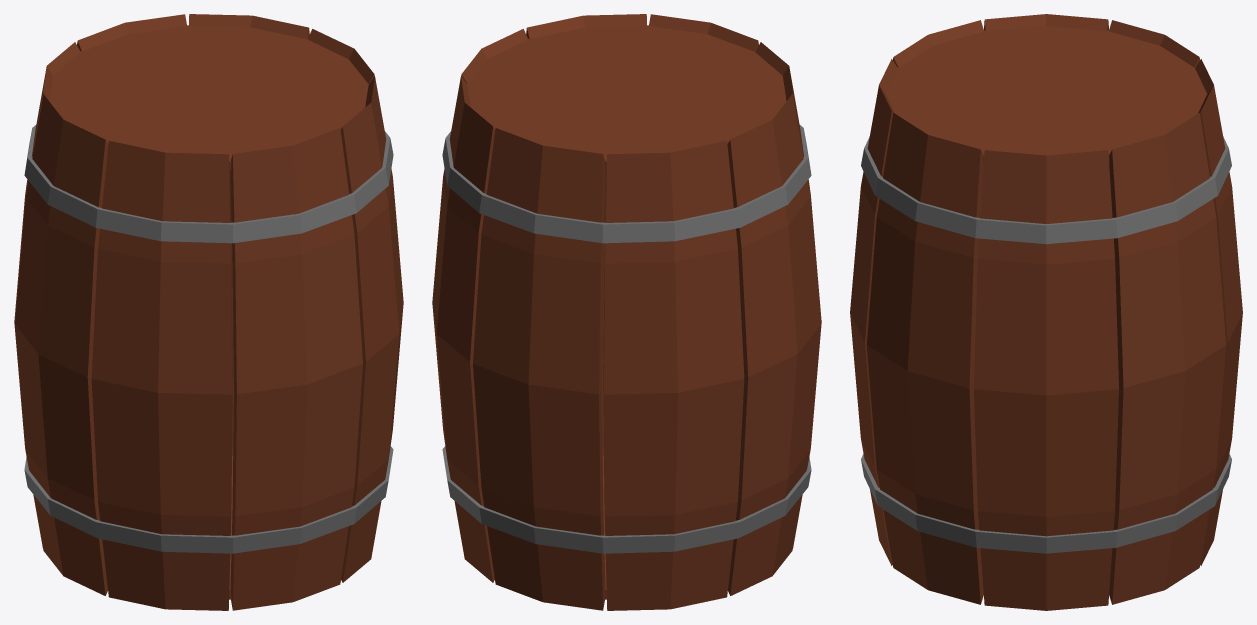
File: barrle.fbx
3 renders of one model, left to right at view 1: azimuth 30°, elevation 25°; view 2: azimuth 150°, elevation 25°; view 3: azimuth 270°, elevation 25°, orthographic.
Parts seen in each view (by area): view 1: Cylinder.009, Cylinder.002, Cylinder.001, Cylinder.005, Cylinder.006, Circle, Circle.001, Cylinder.007, Cylinder.004, Cylinder.008, Cylinder.003; view 2: Cylinder.008, Cylinder.004, Cylinder.001, Cylinder.005, Cylinder.007, Circle, Circle.001, Cylinder.006, Cylinder.002, Cylinder.009, Cylinder.003; view 3: Cylinder.003, Cylinder.006, Cylinder.007, Cylinder.001, Circle, Cylinder.002, Cylinder.004, Circle.001, Cylinder.005, Cylinder.008, Cylinder.009.
Part boxes in pixels (left/top/right/bottom): Cylinder.009: left=91, top=141, right=232, bottom=610; Cylinder.002: left=230, top=128, right=362, bottom=610; Cylinder.001: left=49, top=25, right=368, bottom=171; Cylinder.005: left=15, top=94, right=108, bottom=595; Cylinder.006: left=340, top=76, right=403, bottom=582; Circle: left=24, top=125, right=393, bottom=243; Circle.001: left=24, top=446, right=393, bottom=553; Cylinder.007: left=188, top=14, right=309, bottom=455; Cylinder.004: left=77, top=14, right=186, bottom=51; Cylinder.008: left=14, top=42, right=80, bottom=547; Cylinder.003: left=307, top=29, right=374, bottom=83; Cylinder.008: left=603, top=141, right=744, bottom=610; Cylinder.004: left=473, top=128, right=605, bottom=610; Cylinder.001: left=467, top=25, right=786, bottom=171; Cylinder.005: left=727, top=94, right=820, bottom=595; Cylinder.007: left=432, top=76, right=495, bottom=582; Circle: left=442, top=125, right=811, bottom=243; Circle.001: left=442, top=446, right=811, bottom=553; Cylinder.006: left=526, top=14, right=646, bottom=455; Cylinder.002: left=649, top=14, right=758, bottom=51; Cylinder.009: left=755, top=42, right=821, bottom=547; Cylinder.003: left=461, top=29, right=528, bottom=83; Cylinder.003: left=974, top=150, right=1118, bottom=610; Cylinder.006: left=867, top=113, right=984, bottom=604; Cylinder.007: left=1108, top=113, right=1225, bottom=604; Cylinder.001: left=886, top=26, right=1206, bottom=162; Circle: left=861, top=137, right=1231, bottom=244; Cylinder.002: left=850, top=59, right=897, bottom=565; Cylinder.004: left=1195, top=59, right=1242, bottom=565; Circle.001: left=861, top=454, right=1231, bottom=553; Cylinder.005: left=984, top=14, right=1108, bottom=30; Cylinder.008: left=1109, top=20, right=1199, bottom=67; Cylinder.009: left=893, top=20, right=983, bottom=67.
Size of the model in its own units: 1.82 by 2.32 by 1.82.
